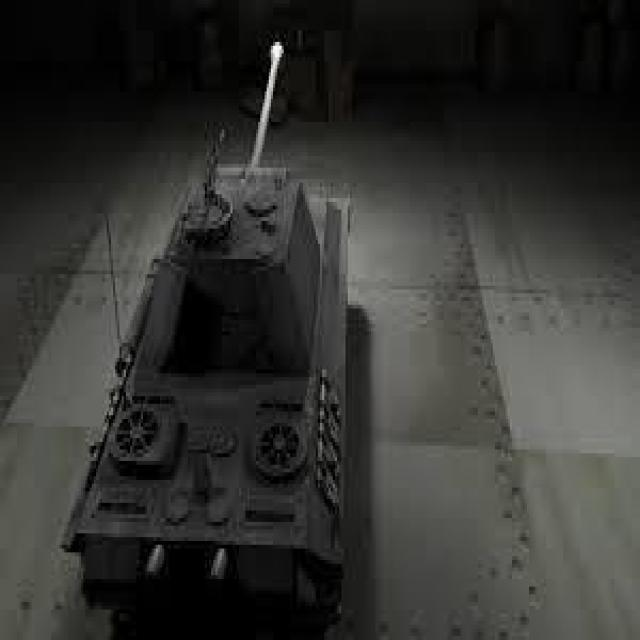MIL_MBT: (75, 124, 371, 596)
